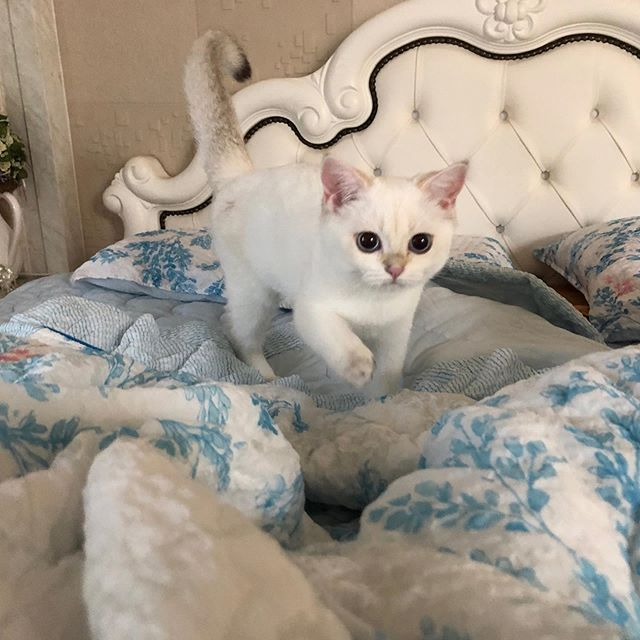cat: (317, 153, 471, 299)
